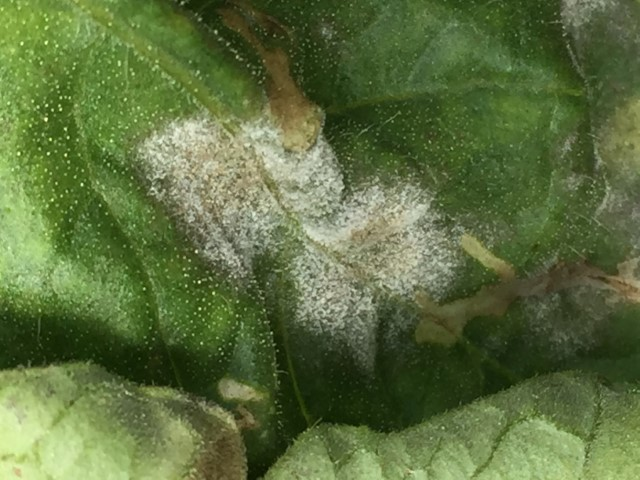oidio: (134, 110, 344, 275), (296, 183, 459, 378), (555, 1, 623, 34), (547, 332, 592, 364), (526, 292, 561, 329), (478, 216, 512, 251), (480, 333, 505, 361), (566, 173, 584, 191), (320, 25, 334, 43)
